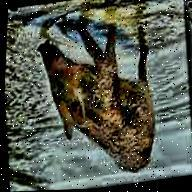boar: (30, 13, 192, 191)
